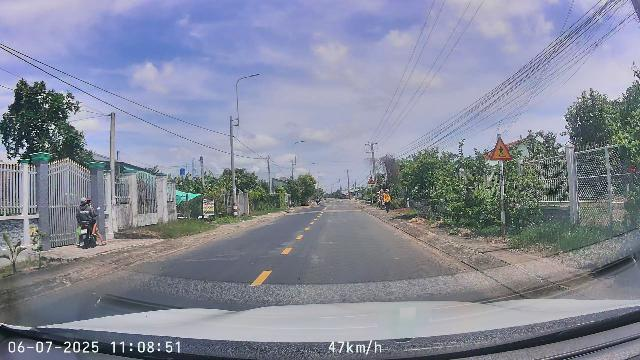224-duong-nguoi-di-bo-cat-ngang: (490, 137, 512, 160)
